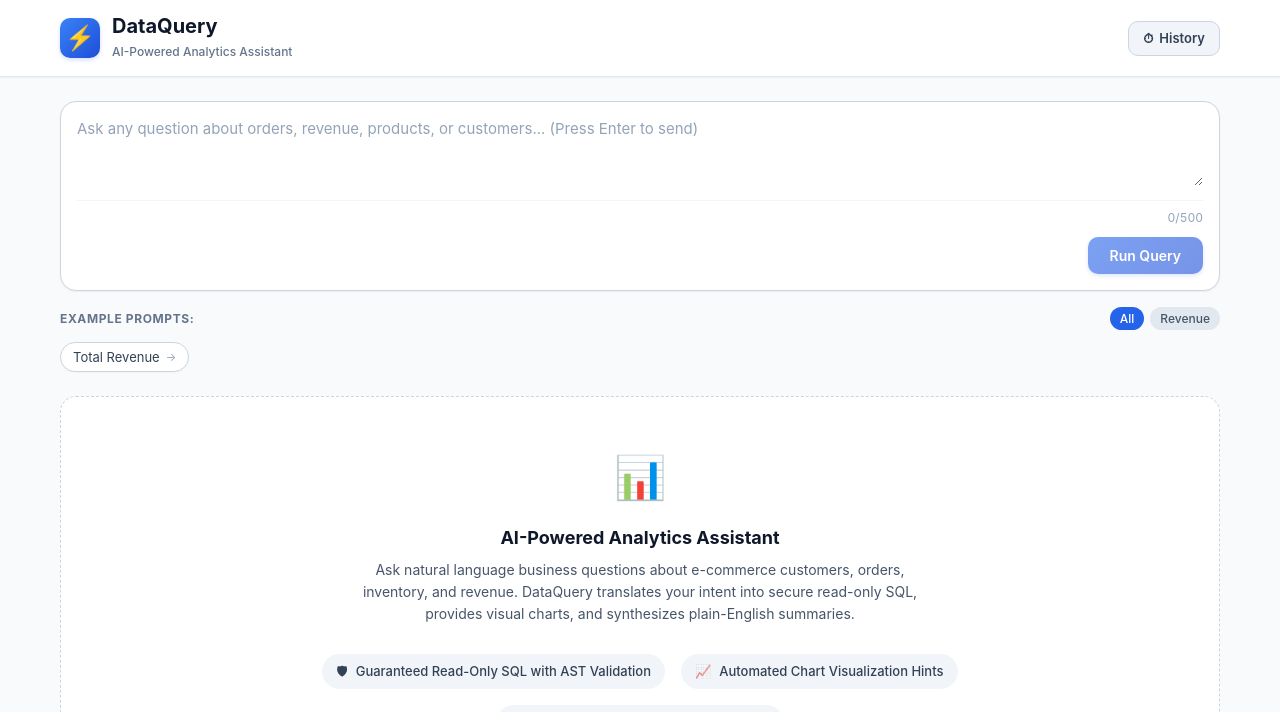
Test: App Integration › clicking an example chip fills input and executes query
// Wait for chip to load
Click the button "Total Revenue →" at (125, 356), box [60,342,189,372]
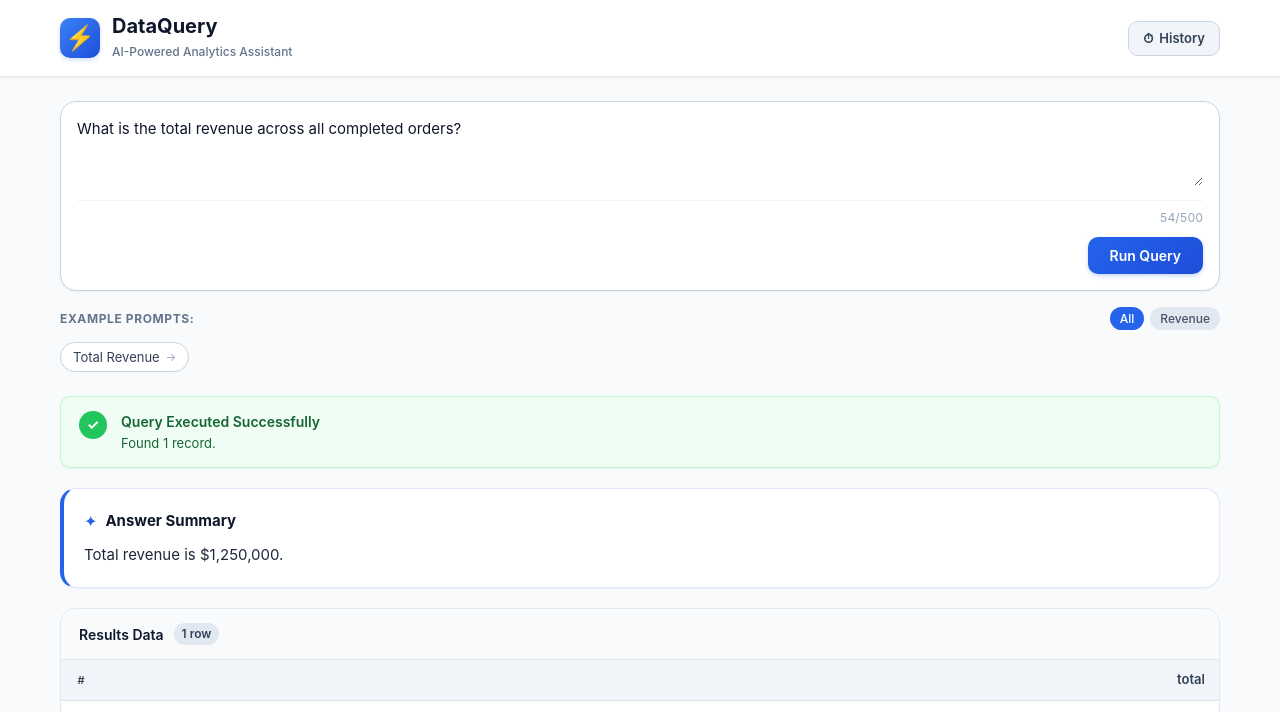
Now the text "Total revenue is $1,250,000." is shown, box [84,545,283,564]
